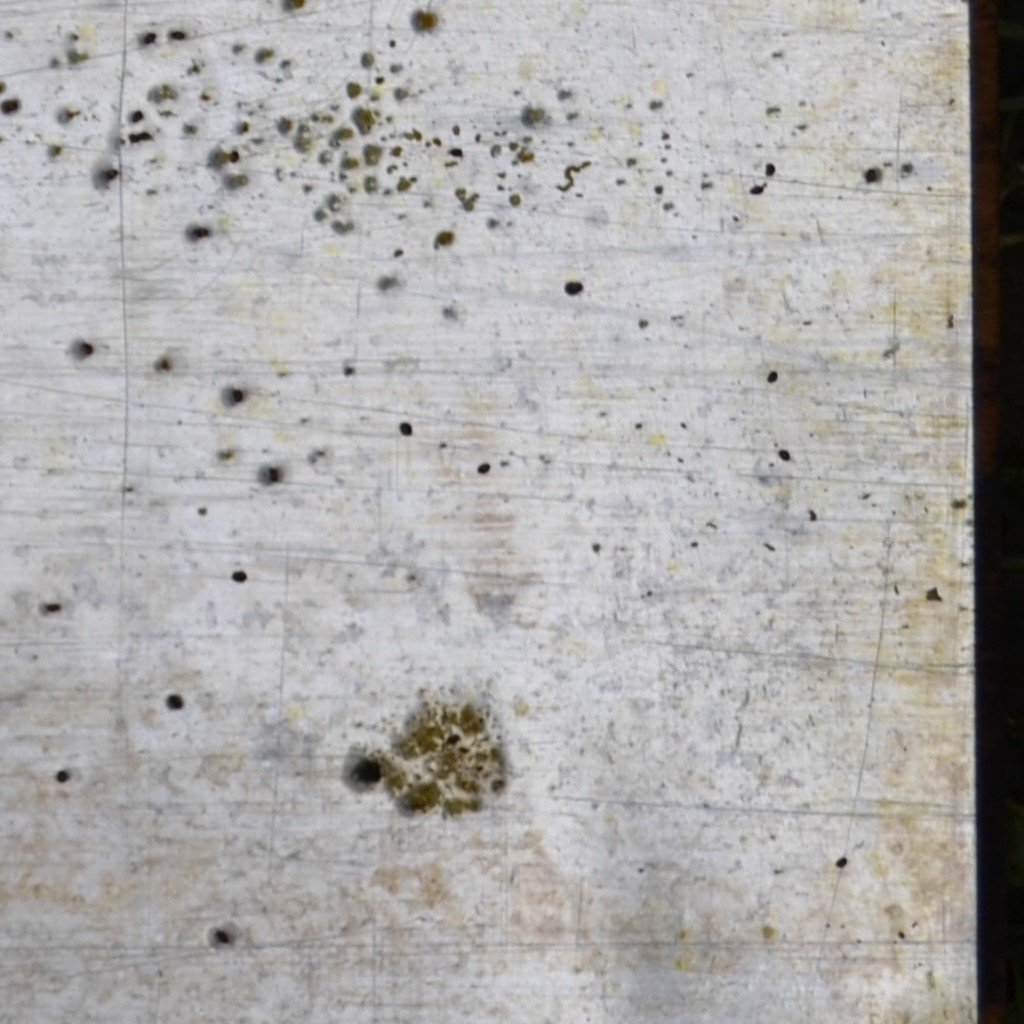varroa: (561, 277, 583, 299), (163, 690, 184, 712), (211, 927, 234, 946), (397, 417, 414, 440), (1, 97, 20, 117), (101, 166, 121, 183), (473, 459, 494, 475), (193, 224, 210, 242), (230, 568, 249, 584), (863, 167, 879, 186), (129, 106, 145, 125), (44, 598, 61, 615), (764, 368, 781, 385), (168, 25, 185, 42), (53, 766, 71, 782), (747, 182, 765, 198), (141, 29, 157, 46), (445, 729, 460, 747), (79, 339, 94, 357), (777, 446, 791, 465), (227, 147, 242, 164), (230, 387, 244, 405), (138, 128, 153, 143), (835, 854, 849, 869), (127, 130, 140, 146), (764, 161, 776, 178), (268, 465, 278, 485)
